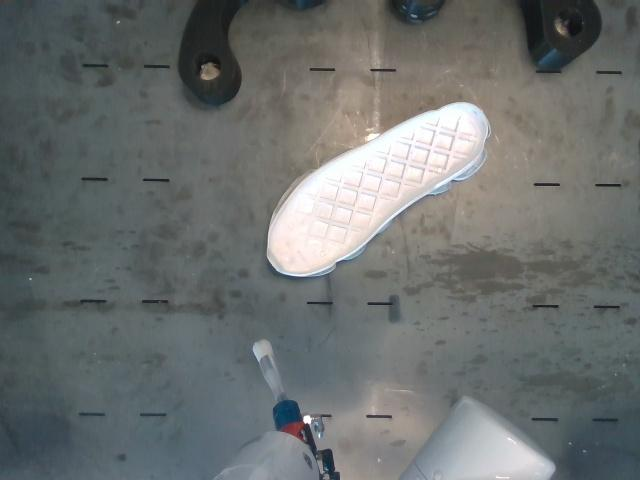shoes: (268, 104, 486, 274)
